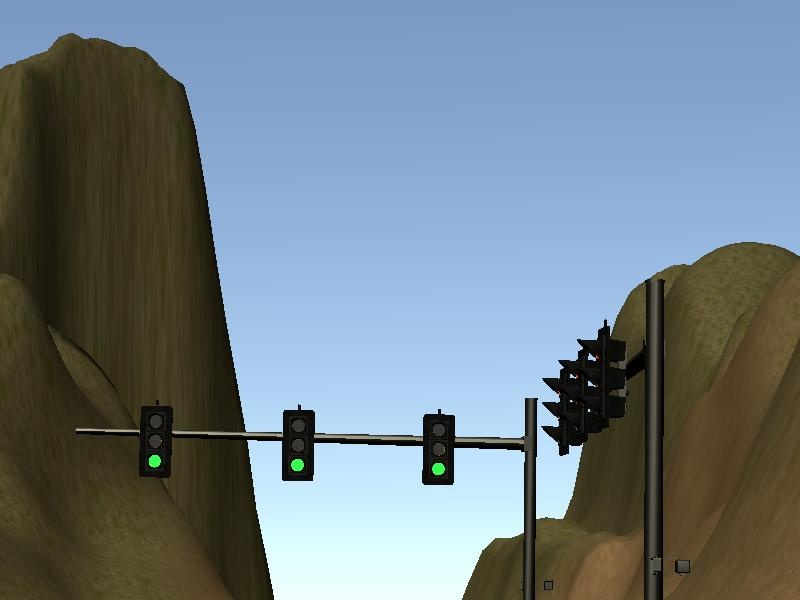green: (420, 412, 455, 484), (283, 409, 315, 480), (141, 405, 171, 476)
